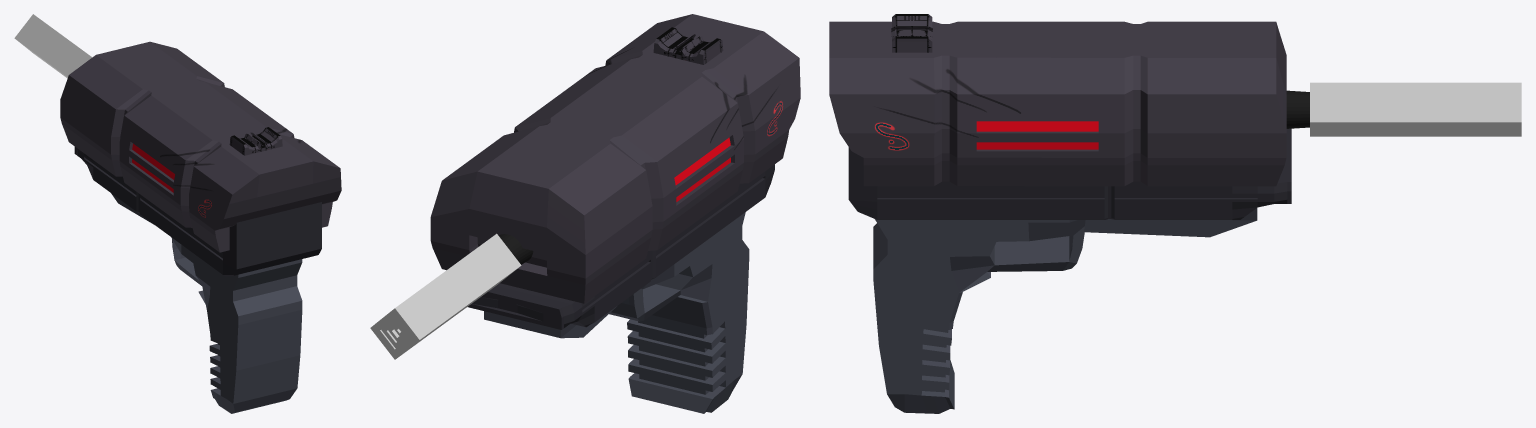
The model's file is pistol.fbx.
3 renders of one model, left to right at view 1: azimuth 30°, elevation 25°; view 2: azimuth 150°, elevation 25°; view 3: azimuth 270°, elevation 25°, orthographic. The views are drawn at different scales.
Visible parts, largest first — view 1: Plane, Plane.004, Plane.003, Cube, Plane.002; view 2: Plane, Plane.004, Plane.003, Cube, Plane.002, Cylinder; view 3: Plane, Plane.004, Plane.003, Cube, Plane.002, Cylinder.
Part boxes in pixels (left/top/right/bottom): Plane: left=60, top=41, right=341, bottom=252; Plane.004: left=111, top=193, right=302, bottom=413; Plane.003: left=74, top=147, right=321, bottom=276; Cube: left=14, top=14, right=91, bottom=78; Plane.002: left=229, top=127, right=282, bottom=155; Plane: left=430, top=14, right=800, bottom=303; Plane.004: left=484, top=212, right=749, bottom=413; Plane.003: left=468, top=164, right=774, bottom=329; Cube: left=370, top=233, right=521, bottom=359; Plane.002: left=653, top=27, right=723, bottom=64; Cylinder: left=498, top=234, right=533, bottom=264; Plane: left=829, top=21, right=1286, bottom=186; Plane.004: left=873, top=208, right=1257, bottom=413; Plane.003: left=848, top=128, right=1291, bottom=219; Cube: left=1310, top=82, right=1521, bottom=136; Plane.002: left=891, top=14, right=932, bottom=52; Cylinder: left=1286, top=90, right=1309, bottom=128.
Size of the model in its own units: 9.52 by 20.86 by 35.46.
